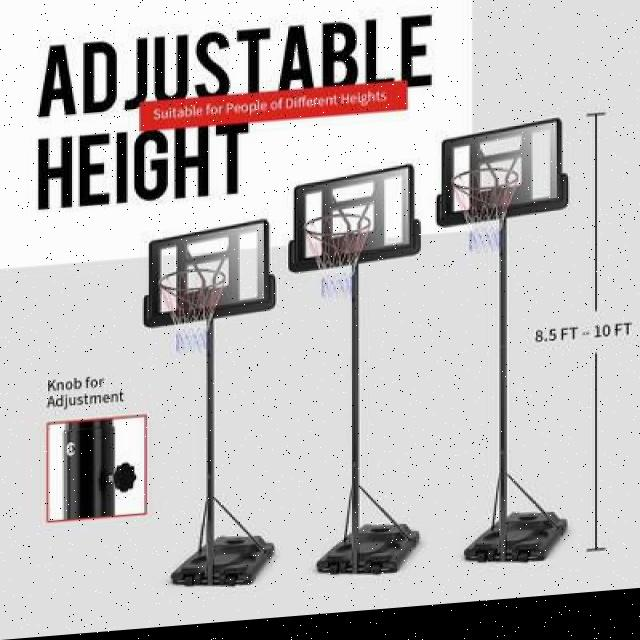hoop: (453, 166, 520, 257), (304, 211, 371, 301), (158, 267, 226, 355)
